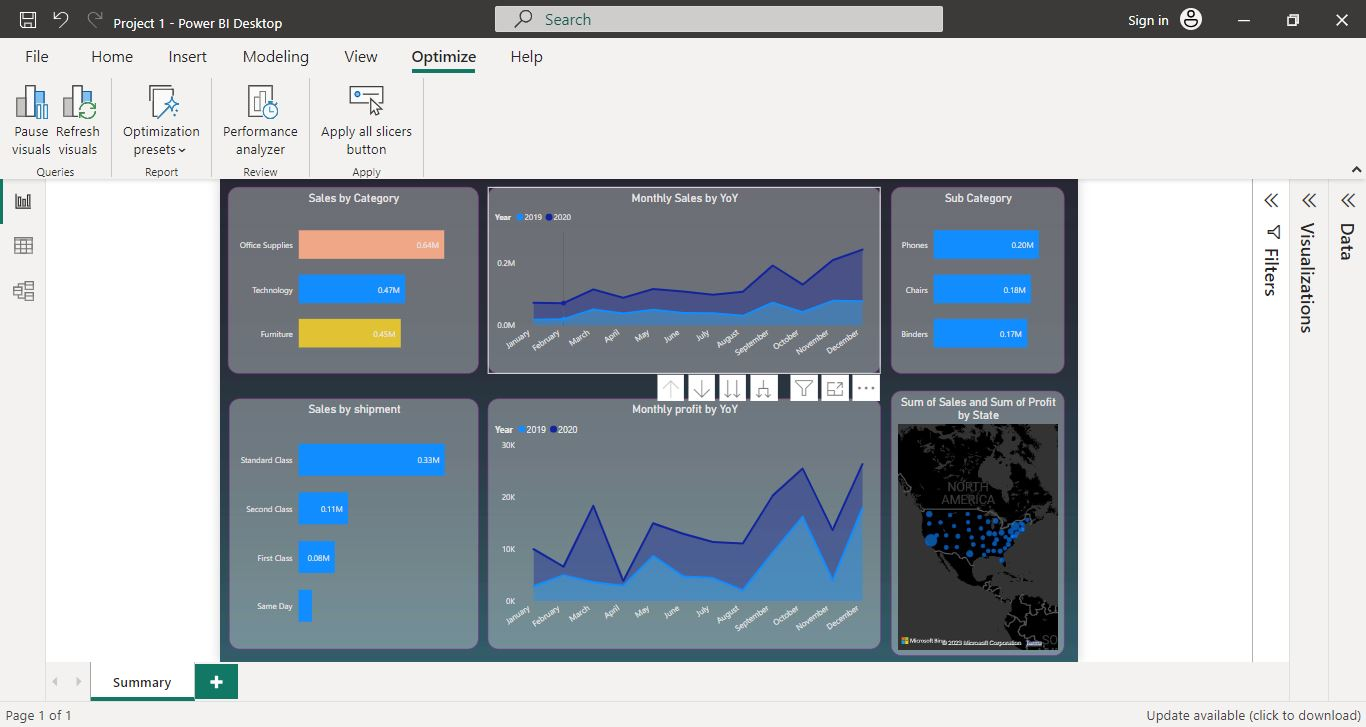

Layout of this report page (visuals, bound fields, positions):
{"tool":"powerbi","page":{"name":"Summary","canvas":[1280,720],"ordinal":0},"visuals":[{"type":"clusteredBarChart","title":"Sales by Category","fields":{"Category":["Sheet1.Category"],"Y":["Sum(Sheet1.Sales)"]},"box":[11.7,11.7,374.2,279],"z":0},{"type":"clusteredBarChart","title":"Sub Category","fields":{"Category":["Sheet1.Sub-Category"],"Y":["Sum(Sheet1.Sales)"]},"box":[1000.6,11.7,258.9,279],"z":1000},{"type":"clusteredBarChart","title":"Sales by shipment","fields":{"Y":["Sum(Sheet1.Sales)"],"Category":["Sheet1.Ship Mode"]},"box":[13.4,327.4,372.5,374.2],"z":2000},{"type":"stackedAreaChart","title":"Monthly profit by YoY","fields":{"Category":["Sheet1.Order Date.Variation.Date Hierarchy.Month","Sheet1.Order Date.Variation.Date Hierarchy.Day"],"Series":["Sheet1.Order Date.Variation.Date Hierarchy.Year"],"Y":["Sum(Sheet1.Profit)"]},"box":[399.2,327.4,586.3,374.2],"z":3000},{"type":"stackedAreaChart","title":"Monthly Sales by YoY","fields":{"Y":["Sum(Sheet1.Sales)"],"Category":["Sheet1.Order Date.Variation.Date Hierarchy.Month","Sheet1.Order Date.Variation.Date Hierarchy.Day"],"Series":["Sheet1.Order Date.Variation.Date Hierarchy.Year"]},"box":[399.2,11.7,586.3,279],"z":4000},{"type":"map","fields":{"Category":["Sheet1.State"],"Size":["Sum(Sheet1.Sales)"]},"box":[1000.6,315.7,258.9,395.9],"z":5000}]}

Visuals, with their boxes on the page's 1280x720 design canvas (x1, y1, x2, y2). These are canvas units, not pixel positions in the 1366x727 screenshot, which may show the page scaled, cropped or inside an application window:
"Sales by Category" clusteredBarChart: (x1=12, y1=12, x2=386, y2=291)
"Sub Category" clusteredBarChart: (x1=1001, y1=12, x2=1260, y2=291)
"Sales by shipment" clusteredBarChart: (x1=13, y1=327, x2=386, y2=702)
"Monthly profit by YoY" stackedAreaChart: (x1=399, y1=327, x2=986, y2=702)
"Monthly Sales by YoY" stackedAreaChart: (x1=399, y1=12, x2=986, y2=291)
map - Sheet1.State x Sum(Sheet1.Sales): (x1=1001, y1=316, x2=1260, y2=712)
